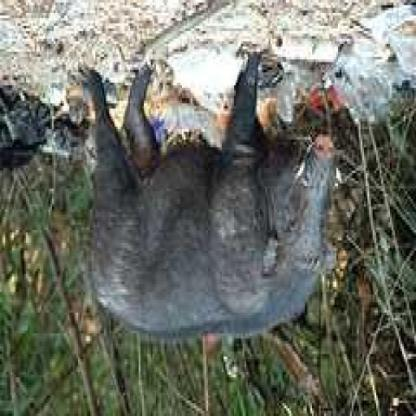boar: (47, 20, 344, 372)
